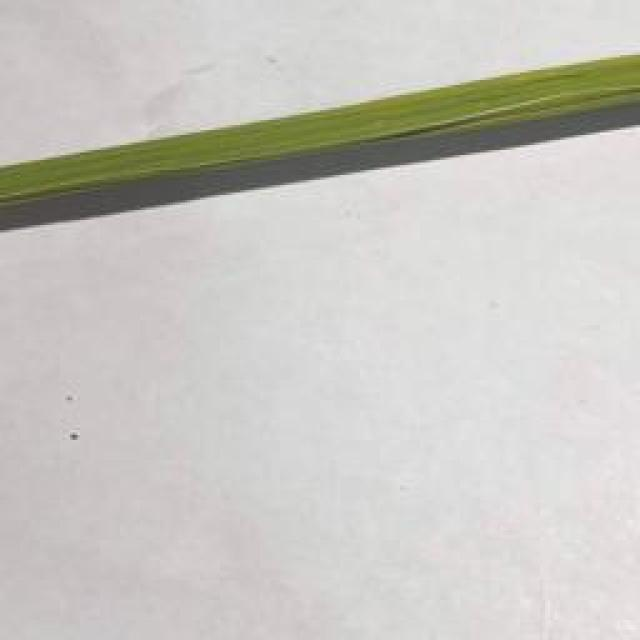Healthy-Plant: (0, 51, 640, 207)
